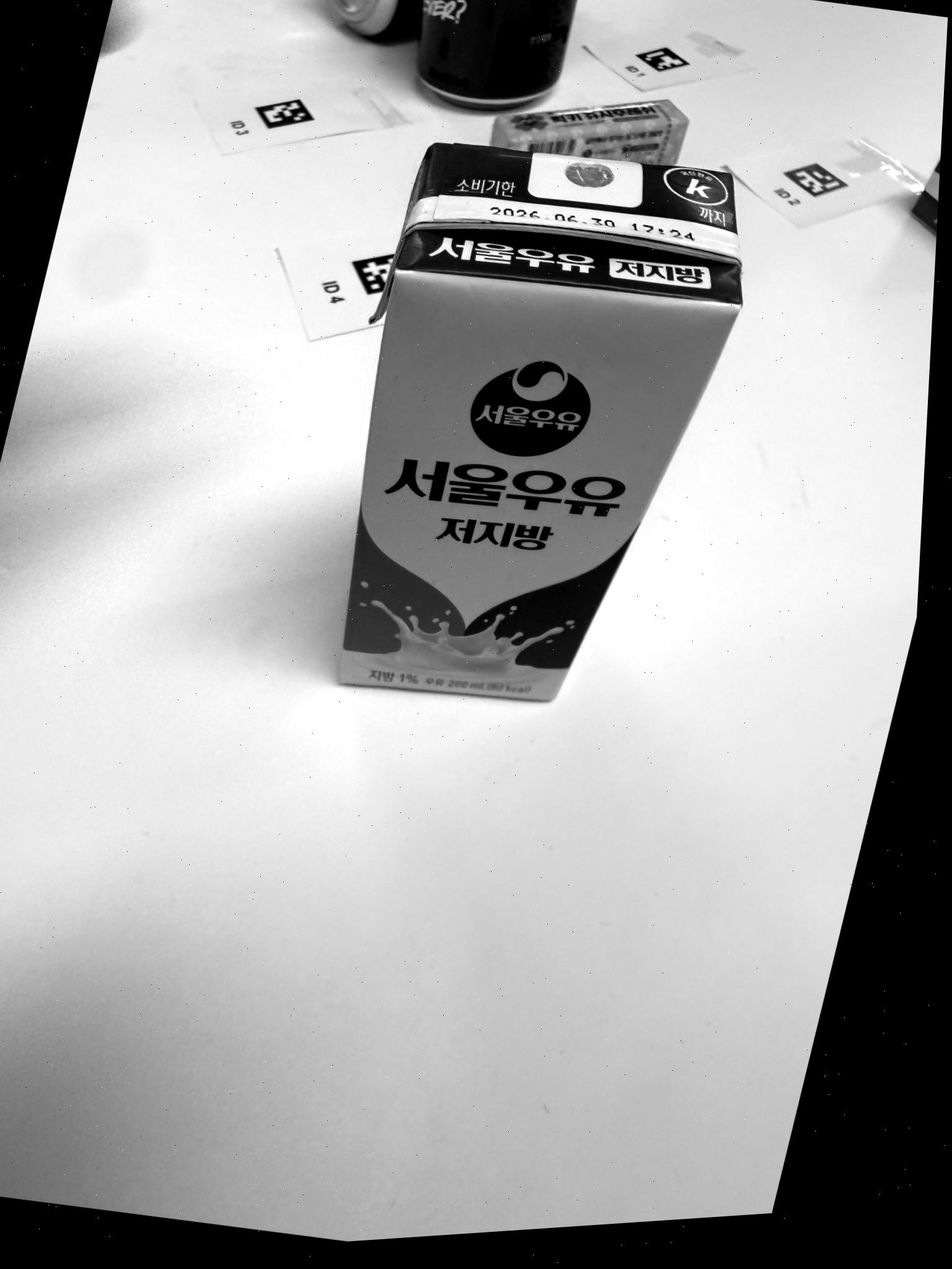milk_blue: (340, 143, 742, 700)
